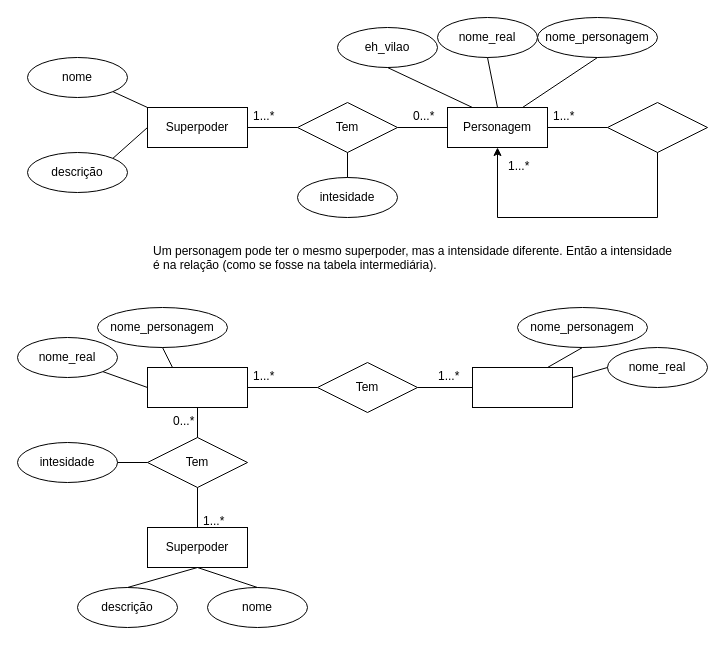
Some shapes in this 725 by 645 pixel diagram are drawn without their labels. The shapes that lost their labels are listed below. From the top down, each one's box as (x1, y1, x2, y2) in pixels, then its label:
(606, 102, 708, 152): antagoniza
(146, 366, 248, 408): Herói
(472, 366, 572, 408): Vilão
